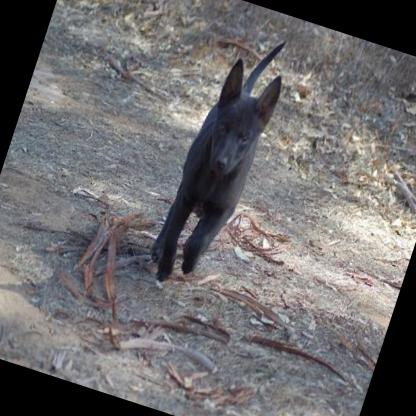kelpie: (139, 20, 297, 302)
